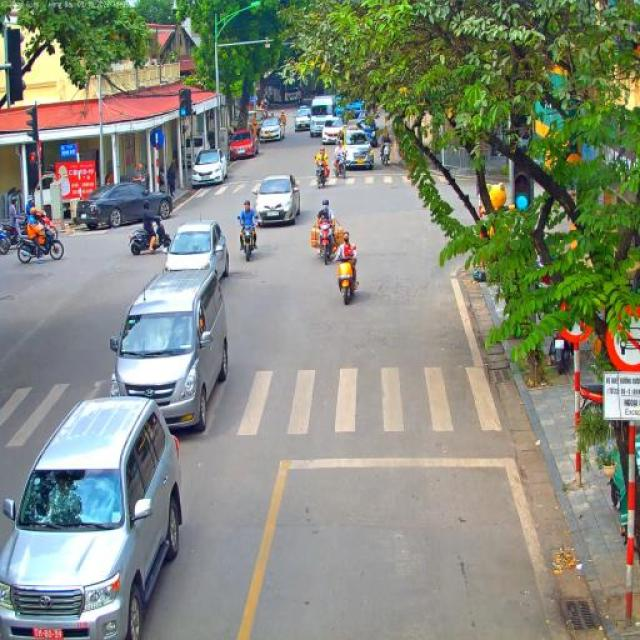car: (0, 394, 184, 640), (110, 267, 230, 433), (74, 182, 174, 230), (163, 219, 229, 282), (252, 173, 302, 227), (340, 125, 374, 171), (192, 148, 228, 187), (308, 96, 338, 136), (227, 130, 259, 161), (354, 114, 378, 148), (322, 115, 348, 144), (260, 116, 286, 143), (294, 109, 311, 132)
motorcycle: (15, 220, 65, 264), (128, 213, 172, 256), (336, 250, 359, 306), (547, 328, 571, 374), (23, 210, 58, 240), (315, 214, 335, 266), (239, 220, 256, 262), (315, 161, 327, 189), (0, 225, 11, 255), (334, 152, 346, 179), (379, 140, 391, 166)
truck: (260, 71, 301, 107)
